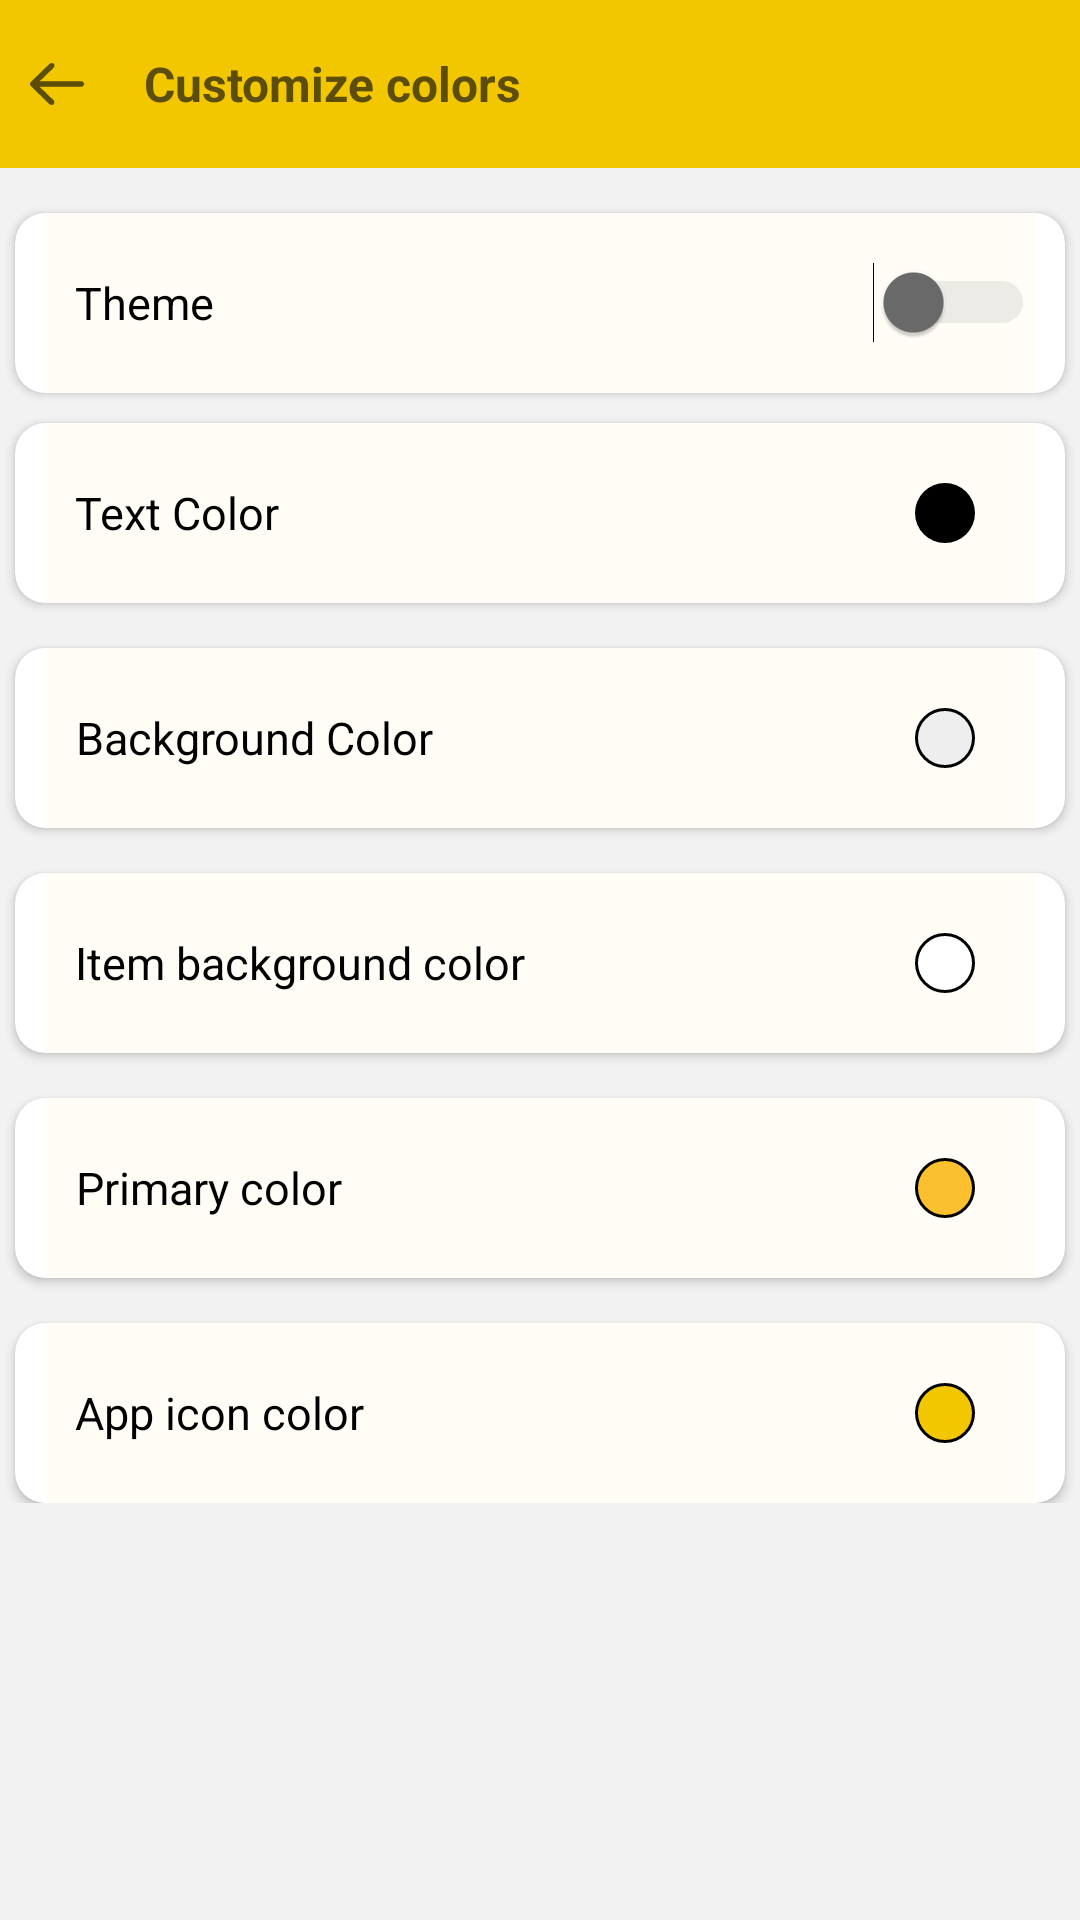

Where icons sit on this 1080 x 1920 app screen, as (x1, y1, x2, y2):
back: (30, 63, 84, 105)
